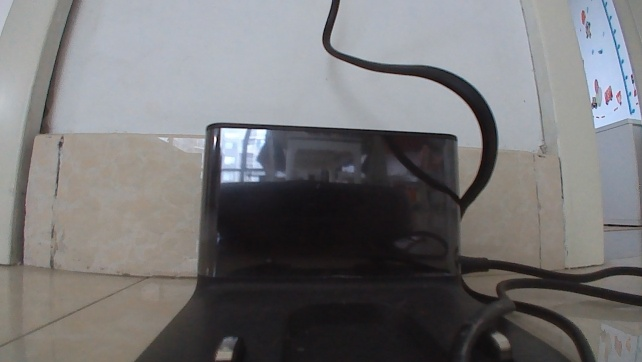charger: (129, 119, 576, 361)
wire: (318, 0, 503, 210), (453, 250, 641, 361)
